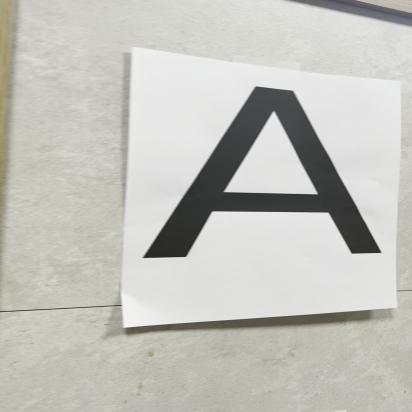seat: (142, 84, 388, 285)
